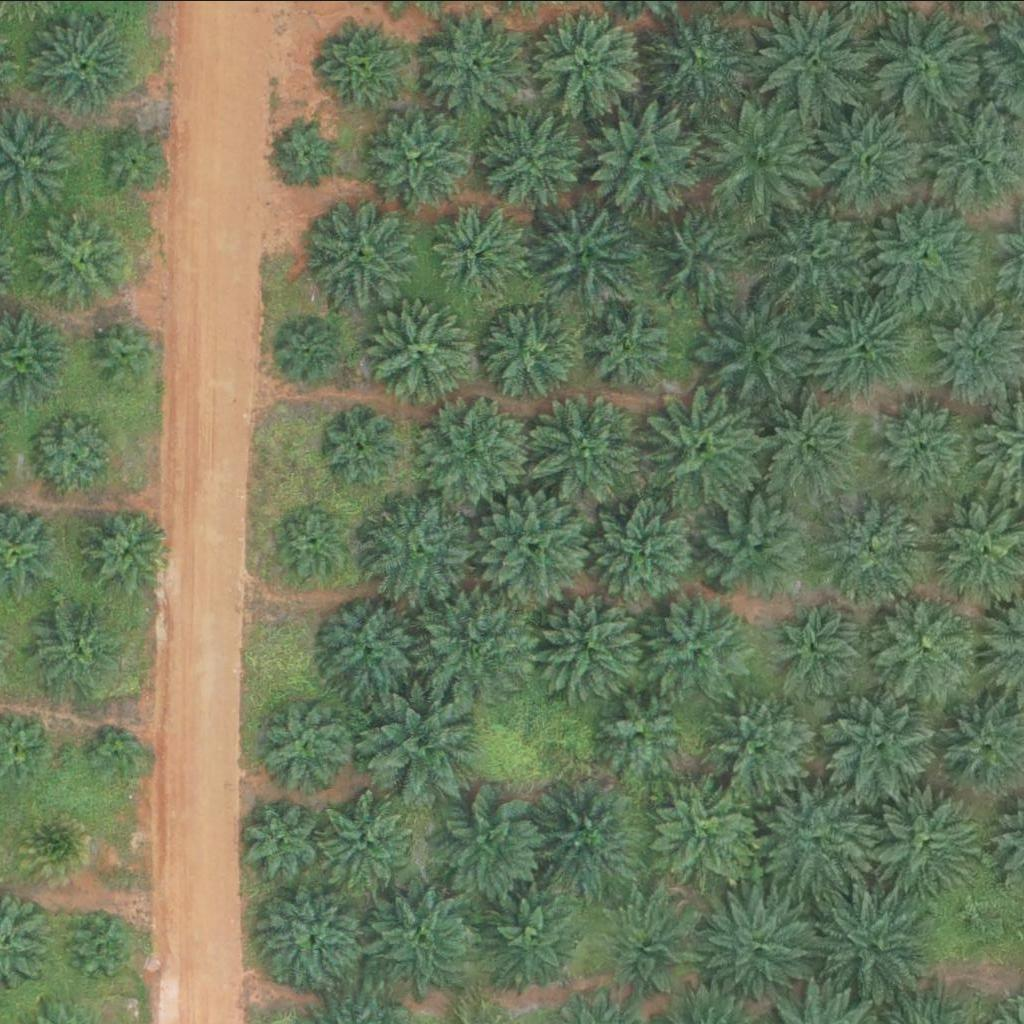Kelapa_Sawit: (356, 874, 482, 999), (426, 779, 552, 904), (359, 682, 485, 807), (418, 579, 544, 704), (583, 485, 709, 610), (525, 384, 651, 509), (640, 385, 766, 510), (696, 289, 822, 414), (516, 193, 642, 318), (635, 194, 761, 319), (751, 194, 877, 319), (585, 93, 711, 218), (703, 95, 829, 220), (865, 2, 991, 127), (805, 95, 931, 220), (862, 192, 988, 317), (536, 585, 650, 698), (821, 493, 935, 606), (706, 887, 819, 1000), (641, 587, 754, 700), (759, 594, 872, 707), (707, 493, 820, 606), (418, 393, 531, 506), (866, 785, 979, 898), (818, 891, 931, 1004), (474, 491, 588, 603), (753, 386, 867, 498), (478, 878, 591, 990), (594, 891, 707, 1003), (531, 779, 644, 891), (650, 774, 763, 886), (760, 781, 873, 893), (705, 693, 818, 805), (359, 496, 472, 608), (870, 589, 983, 701), (821, 689, 934, 801), (31, 12, 132, 112), (30, 208, 131, 308), (259, 889, 360, 989), (368, 301, 469, 401), (483, 302, 584, 402), (309, 199, 410, 299), (430, 205, 531, 305), (366, 108, 467, 208), (478, 108, 579, 208), (423, 13, 524, 113), (650, 5, 751, 105), (74, 501, 174, 601), (24, 595, 124, 695), (316, 790, 416, 890), (322, 600, 422, 700), (579, 295, 679, 395), (810, 296, 910, 396), (877, 398, 977, 498), (30, 408, 118, 496), (597, 688, 685, 776), (237, 797, 325, 884), (263, 703, 351, 790), (319, 15, 407, 102), (280, 504, 356, 579), (89, 315, 165, 390), (15, 806, 91, 881), (64, 908, 140, 983), (324, 407, 399, 482), (97, 119, 172, 194), (278, 318, 341, 381), (87, 721, 150, 783), (276, 119, 339, 181)
